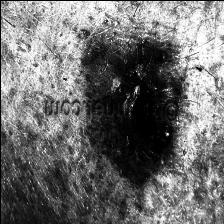Potentially Malignant Skin Tumors: (67, 25, 183, 96), (81, 120, 188, 184)
